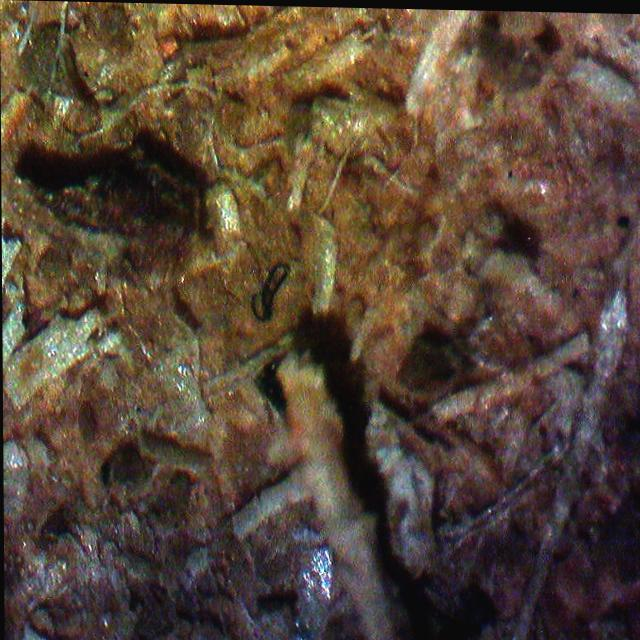microplastic: (248, 258, 292, 322)
